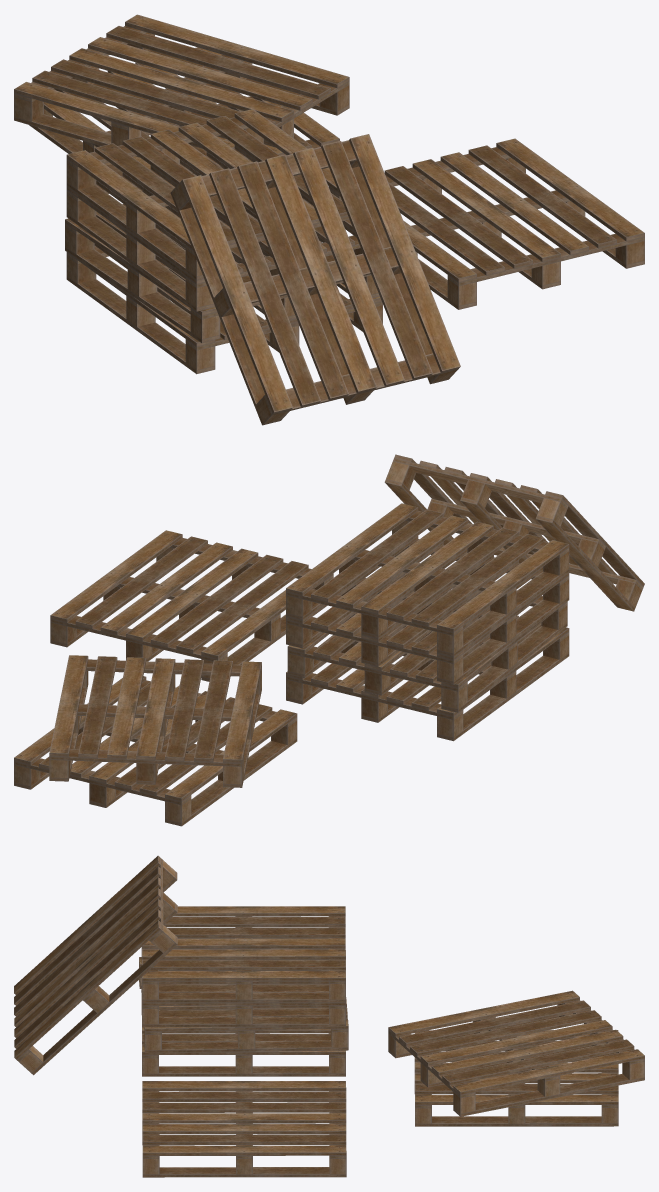
File: pallets.glb
3 renders of one model, top to bottom at view 1: azimuth 30°, elevation 25°; view 2: azimuth 150°, elevation 25°; view 3: azimuth 270°, elevation 25°, orthographic. The views are drawn at different scales.
Parts seen in each view (by area): view 1: pallets; view 2: pallets; view 3: pallets.
Boxes of the visible parts, x1,y1,x2,y2 form: pallets: (14, 14, 644, 425); pallets: (14, 454, 644, 826); pallets: (14, 855, 644, 1177).
Size of the model in its own units: 2.43 by 0.9617 by 3.71.
Materials: 1 (1 with a texture image).
